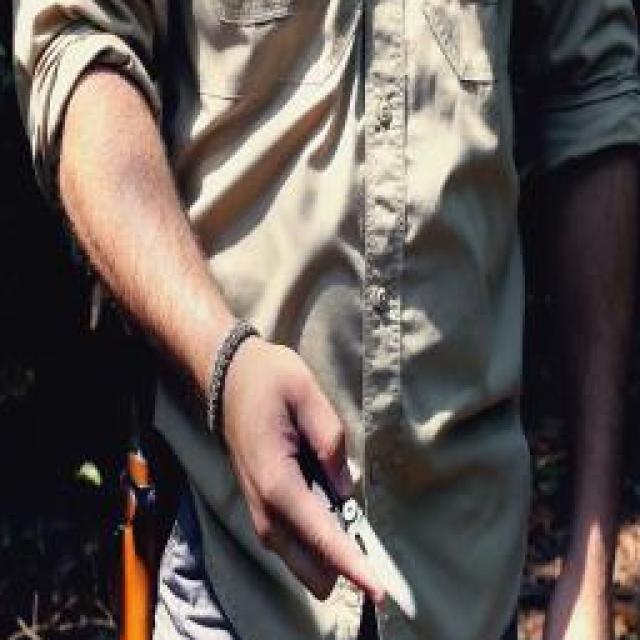knife: (245, 440, 423, 635)
